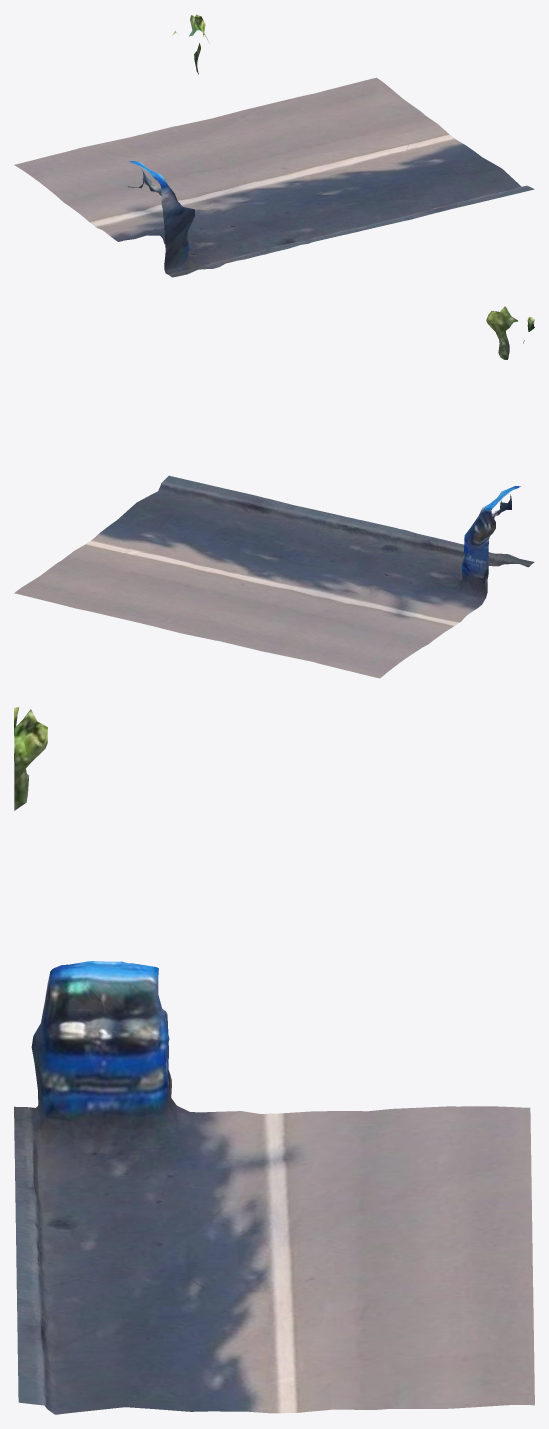
File: Tile_+006_+007_L22_0002250.glb
3 renders of one model, top to bottom at view 1: azimuth 30°, elevation 25°; view 2: azimuth 150°, elevation 25°; view 3: azimuth 270°, elevation 25°, orthographic. The views are drawn at different scales.
Parts seen in each view (by area): view 1: rtc; view 2: rtc; view 3: rtc.
Part boxes in pixels (left/top/right/bottom): rtc: left=14, top=14, right=534, bottom=277; rtc: left=14, top=306, right=534, bottom=678; rtc: left=14, top=707, right=534, bottom=1414.
Size of the model in its own units: 9.02 by 6.21 by 6.74.
1 material, 1 textured.
